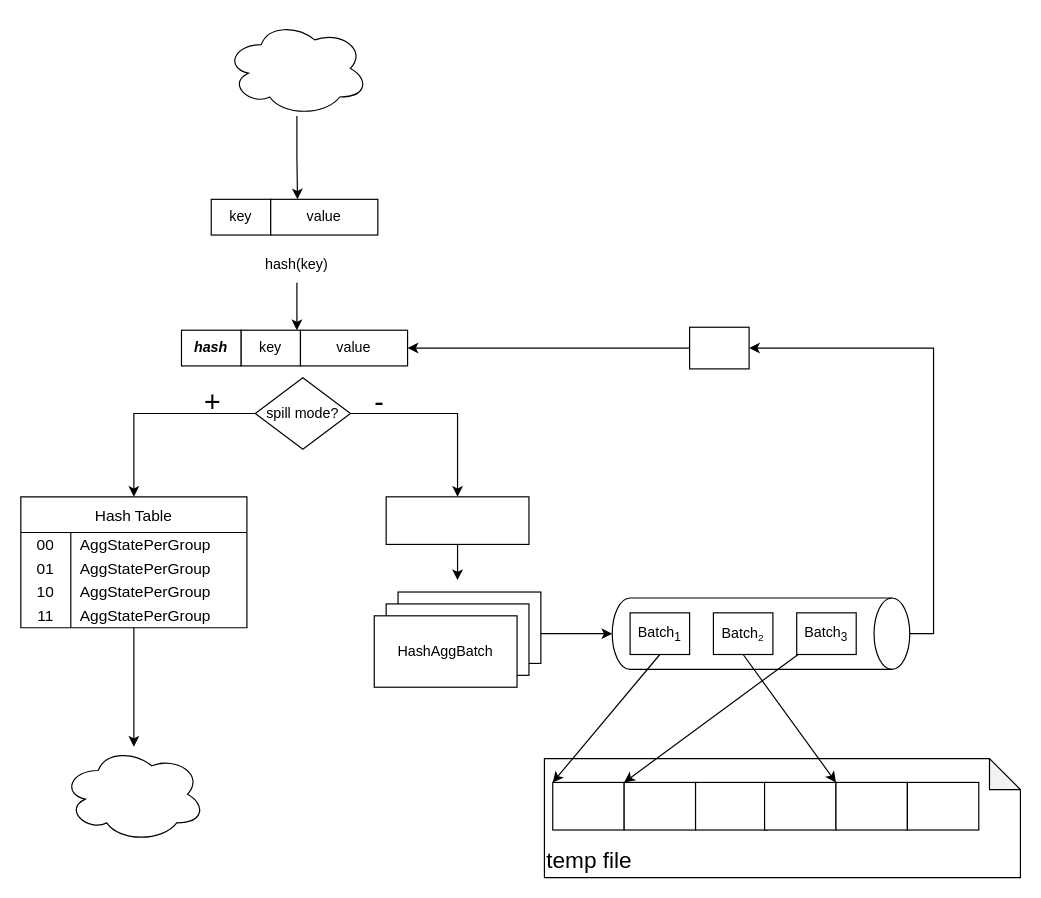
Image size: 1041x898. Some labels were removed from this diagram. Here are the shapes that lost their labels. From the top down, the centre of each, then its label:
At (x=296, y=68): "Вход".
At (x=718, y=347): "Batch n".
At (x=457, y=520): "HashAggSpill".
At (x=133, y=794): "Выход".
